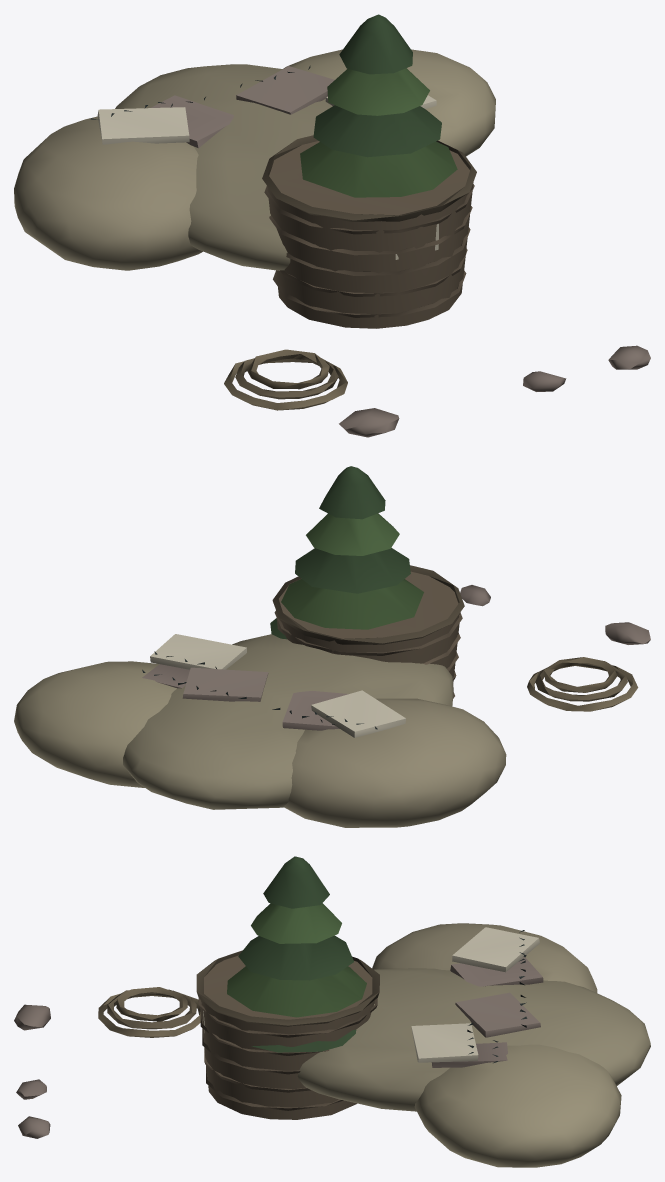
The model's file is balloon_basket_wreck_c_lod2.glb.
3 renders of one model, top to bottom at view 1: azimuth 30°, elevation 25°; view 2: azimuth 150°, elevation 25°; view 3: azimuth 270°, elevation 25°, orthographic. The views are drawn at different scales.
Visible parts, largest first — view 1: Surface.001; view 2: Surface.001; view 3: Surface.001.
Part boxes in pixels (bbox=[...]): Surface.001: bbox=[14, 14, 650, 437]; Surface.001: bbox=[14, 466, 650, 827]; Surface.001: bbox=[14, 856, 650, 1167].
Size of the model in its own units: 5.76 by 3.11 by 7.48.
